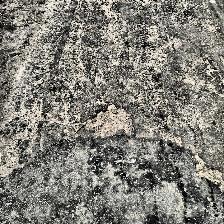pothole: (90, 101, 134, 137), (198, 168, 224, 184)
